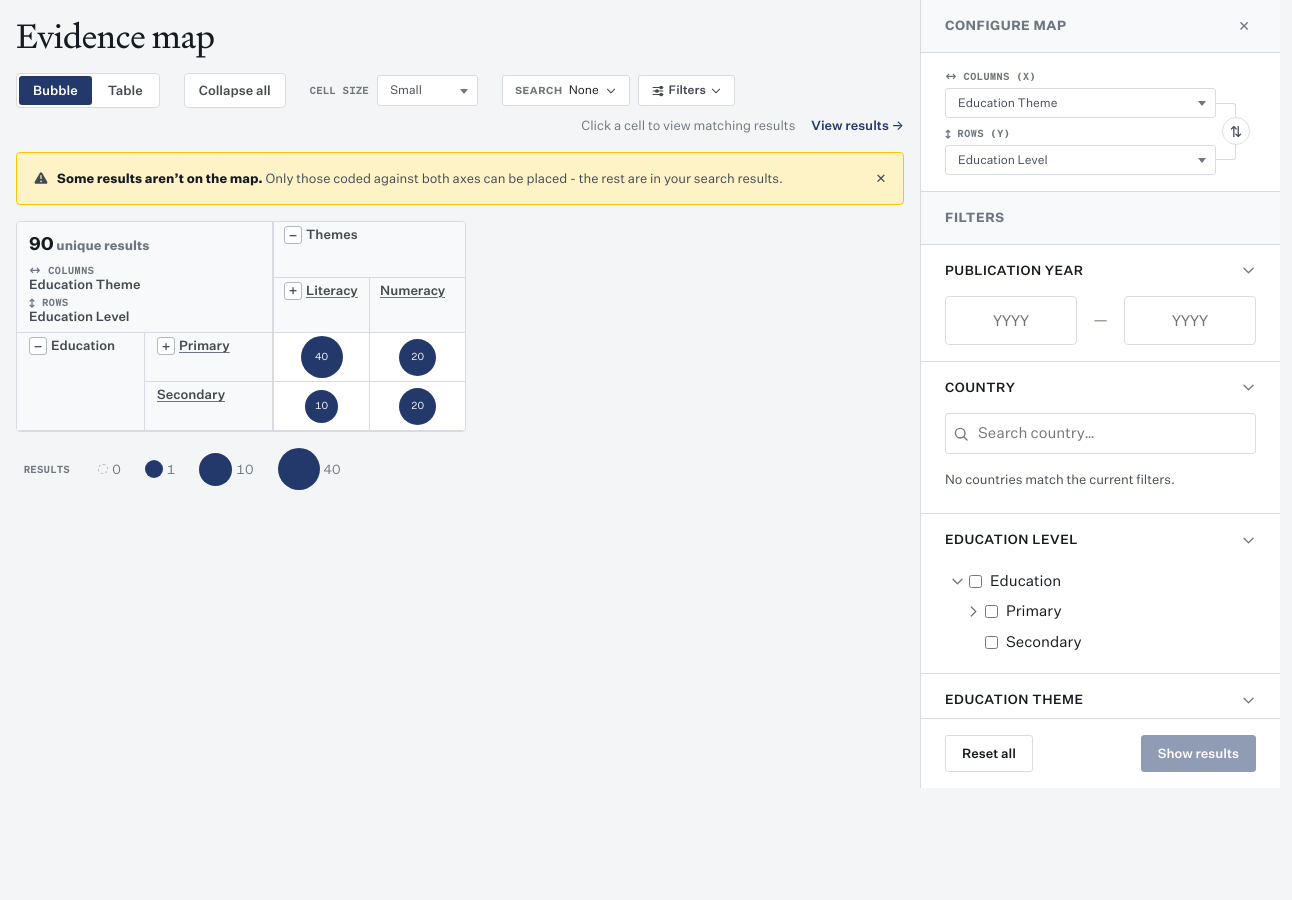
Test: VisualisePage nested-axis state › the coverage note gives way to the oversized-map error
Expected: the element with class "map-coverage-note" is shown, [16, 152, 904, 205]
Click the button named "Expand Primary" at x=166, y=346, box [157, 338, 175, 356]
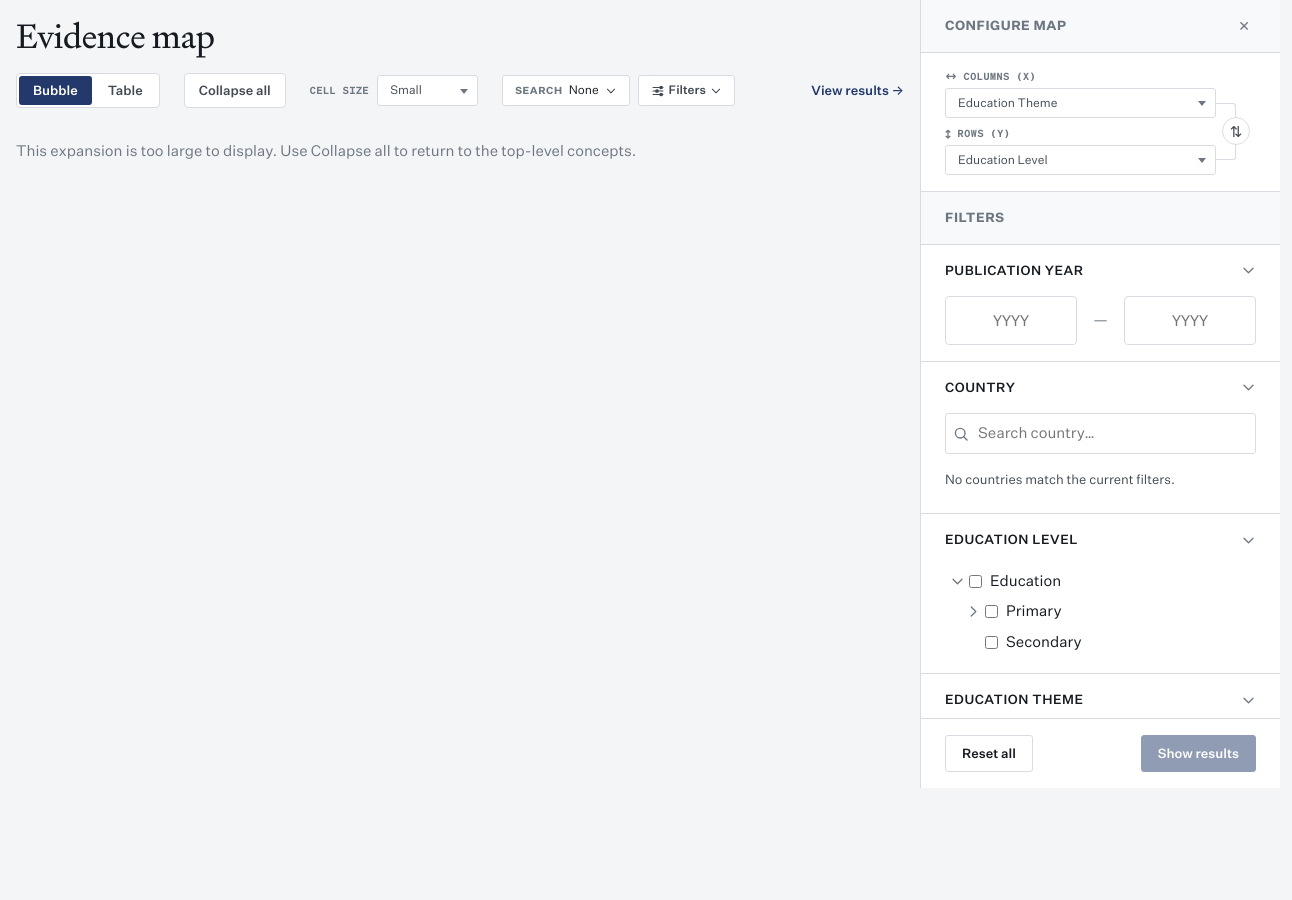
Now the message shows "This expansion is too large to display", box [16, 142, 636, 159]
Now the element with class "map-coverage-note" is gone
